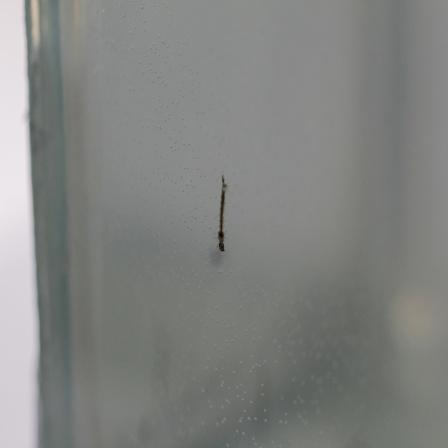Jentik-Nyamuk: (212, 171, 236, 255)
